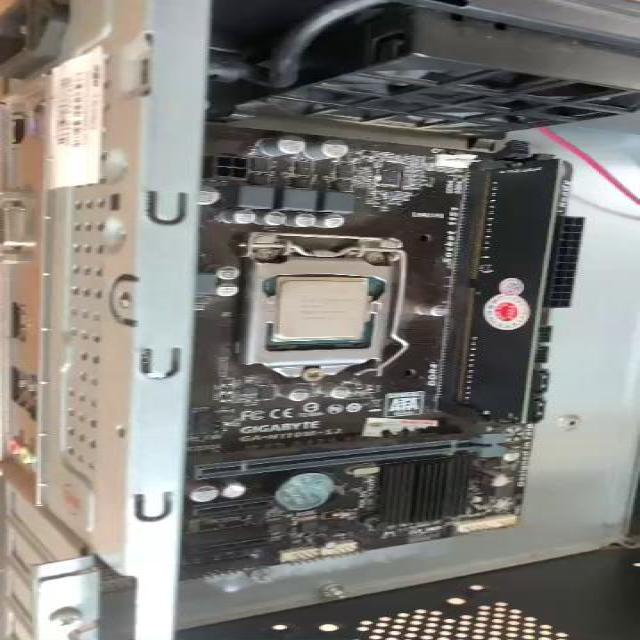CPU: (266, 271, 383, 349)
Mainboard: (185, 104, 564, 576)
RAM: (459, 154, 563, 426)
